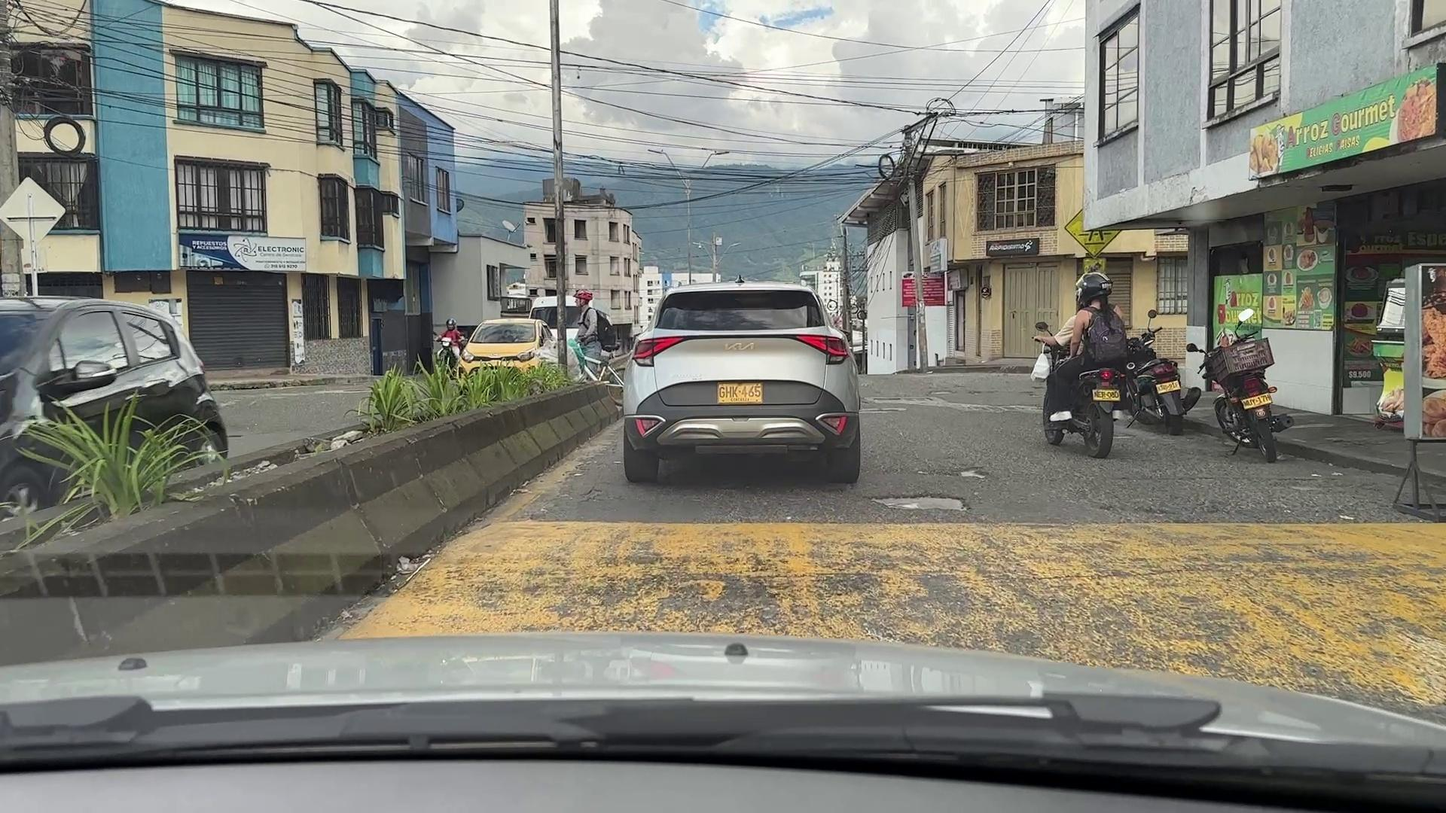bache: (873, 496, 966, 510), (960, 466, 987, 479), (930, 390, 954, 394), (1113, 435, 1134, 438)
grieta: (579, 488, 601, 502)
registro: (860, 407, 907, 413)
rejilla: (865, 396, 1043, 413)
